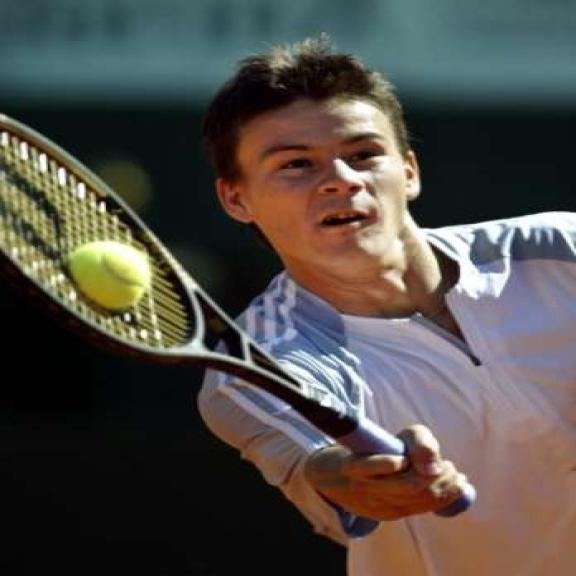face: (214, 96, 429, 264)
